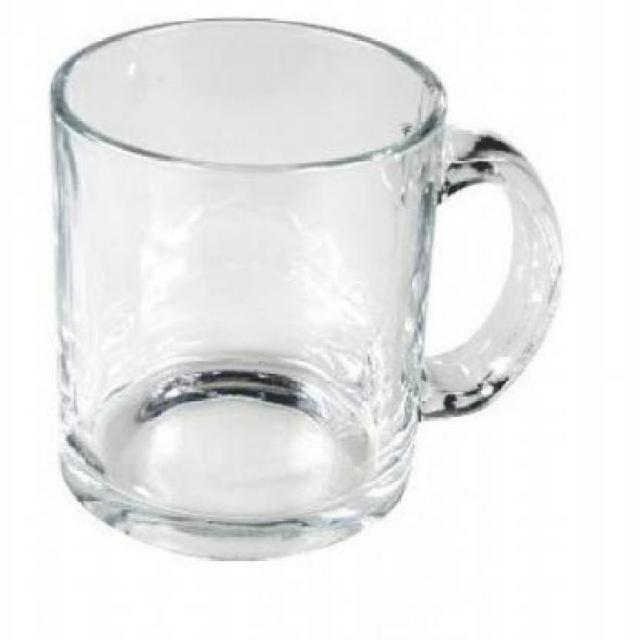taza: (197, 215, 534, 422)
